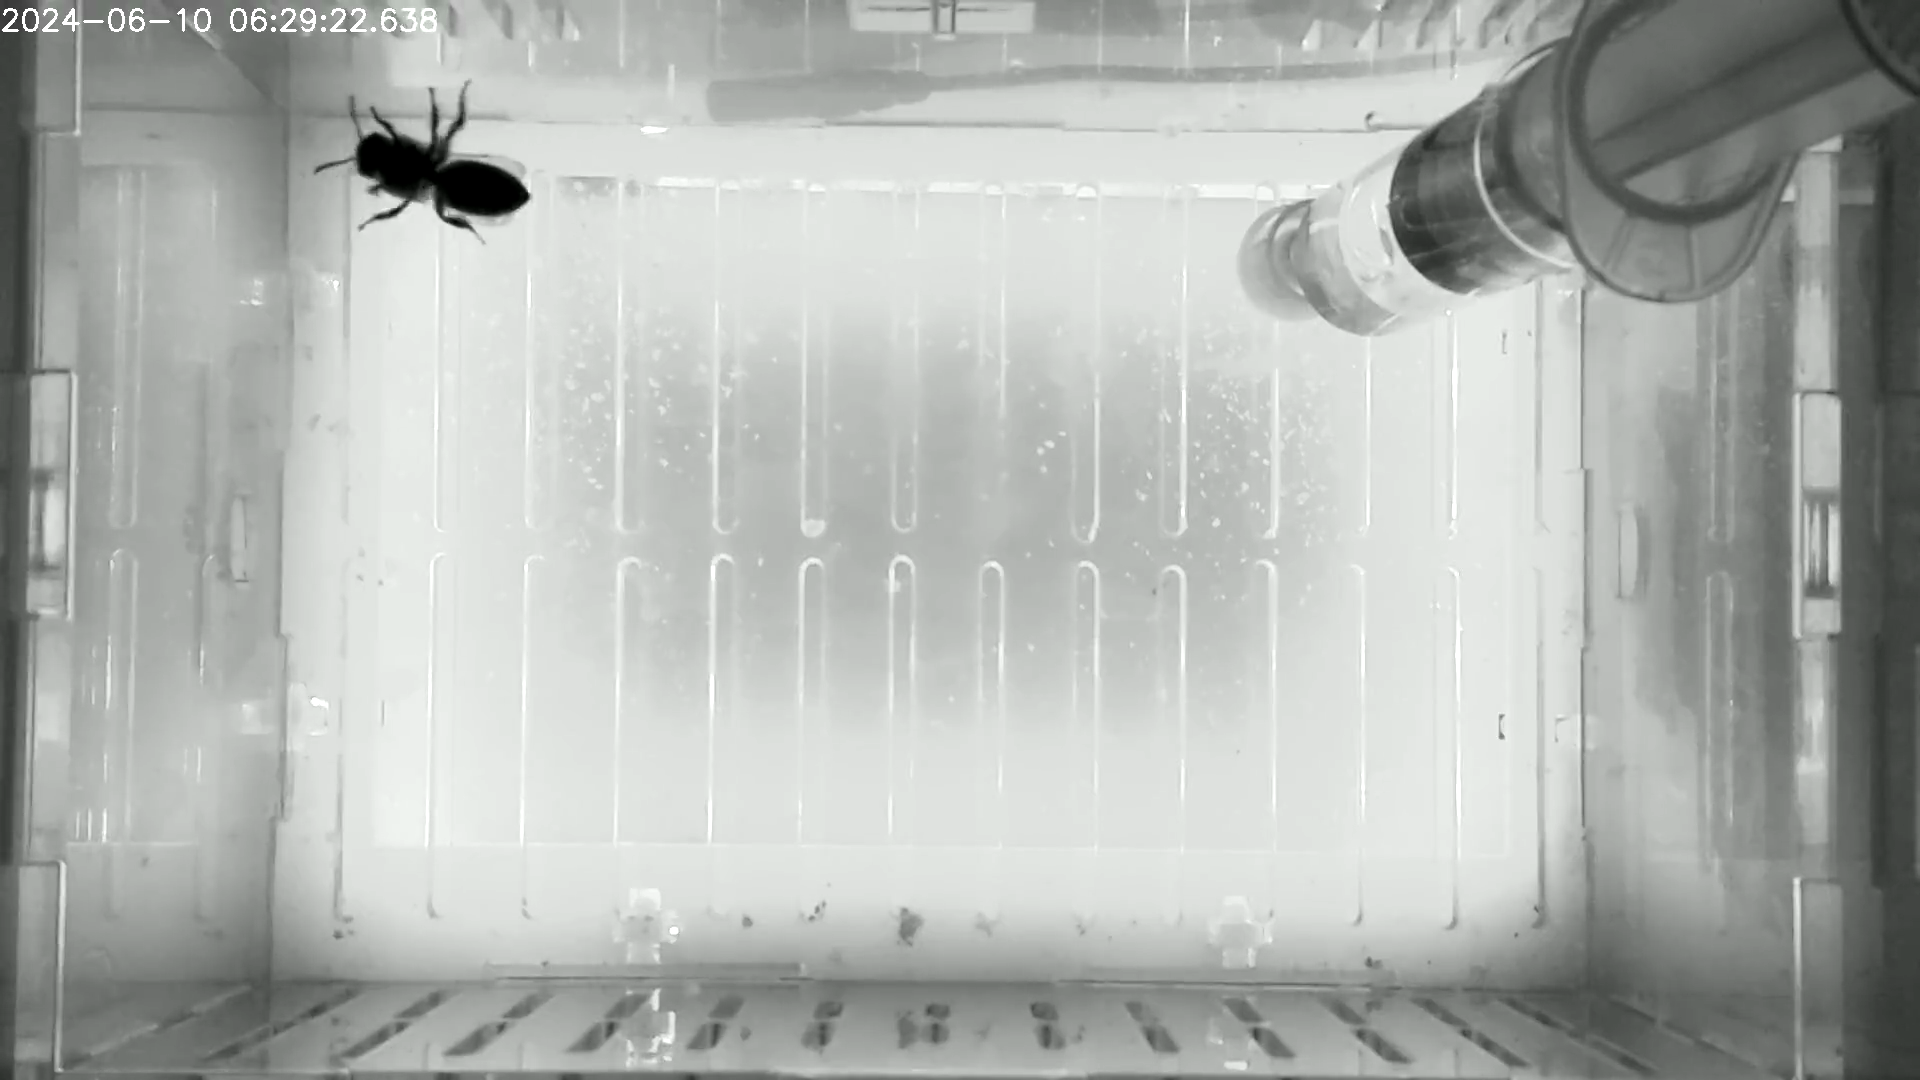bee: (301, 78, 539, 261)
feeder: (1284, 83, 1581, 348)
